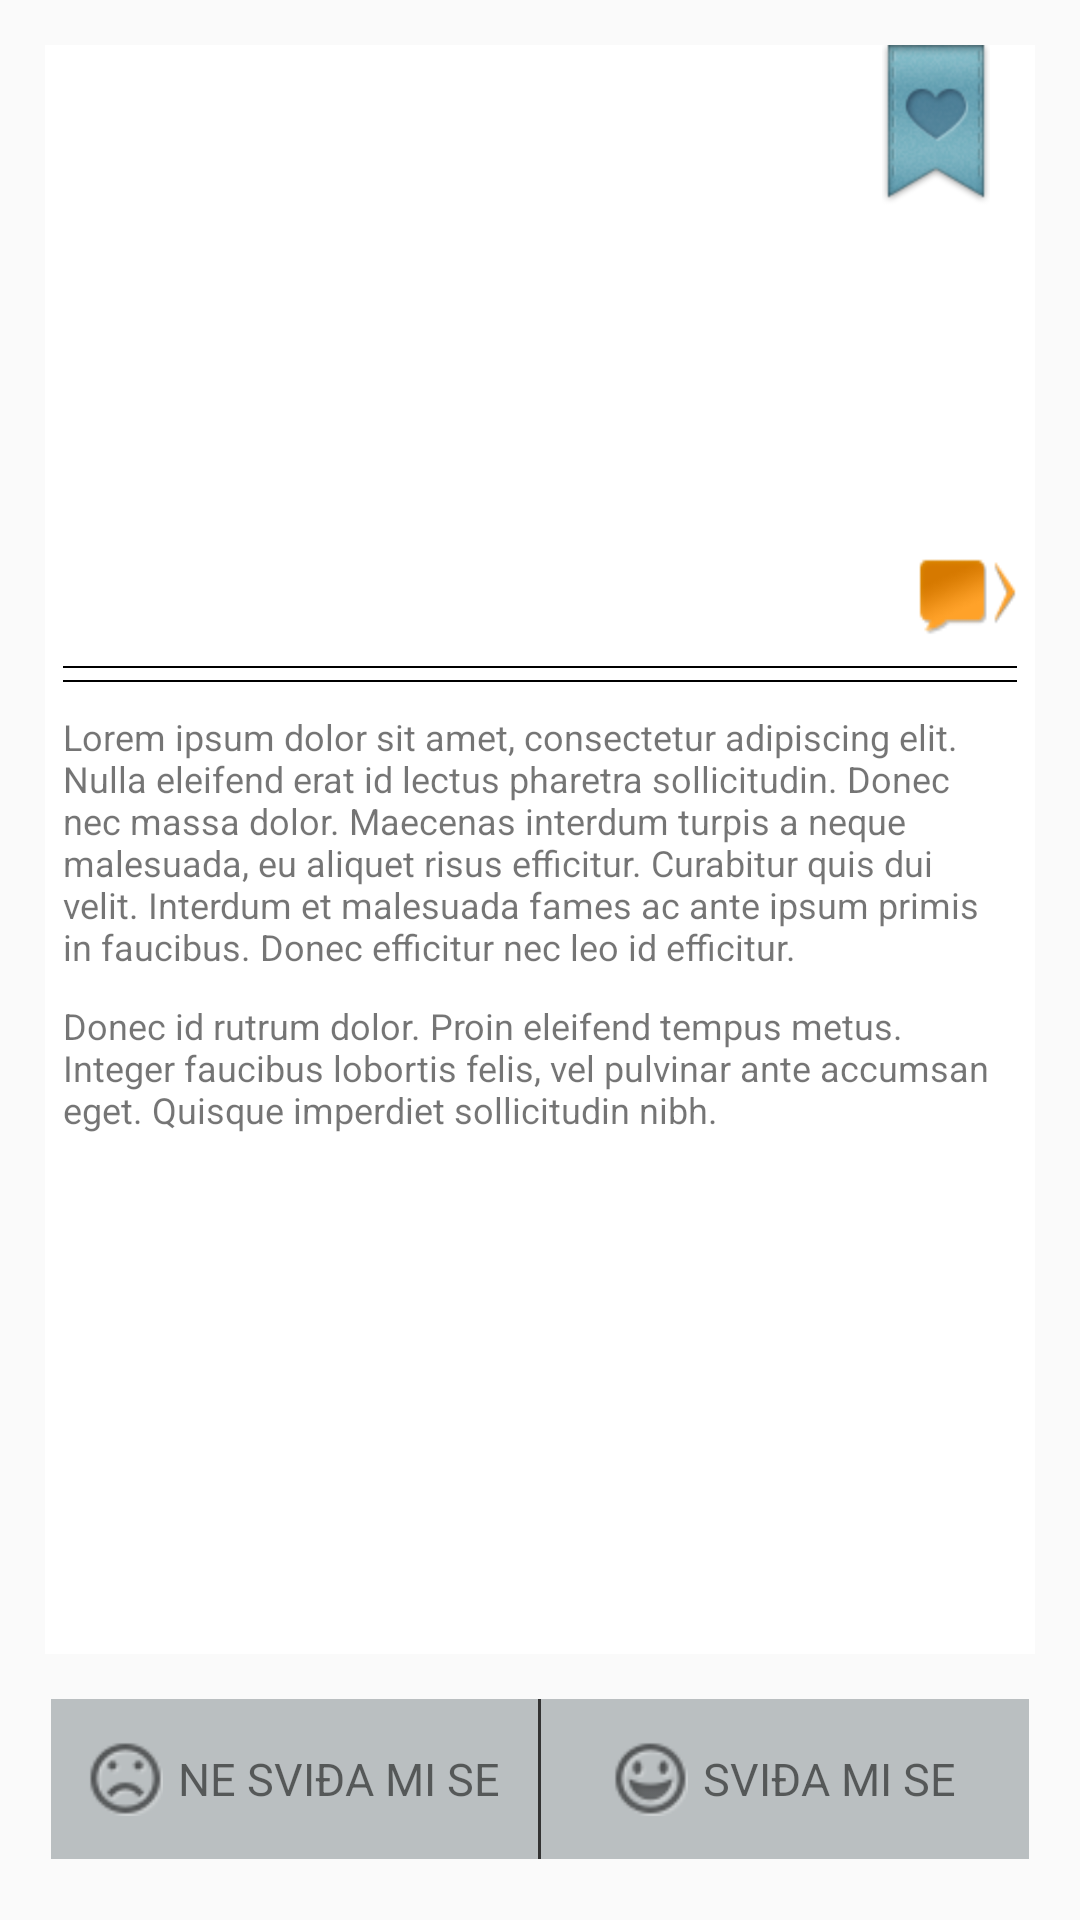

Icons on this 1080px×1920px Android screen, each with the point to tap as (x,y):
bad: (125,1778)
favorite: (936,122)
good: (650,1778)
